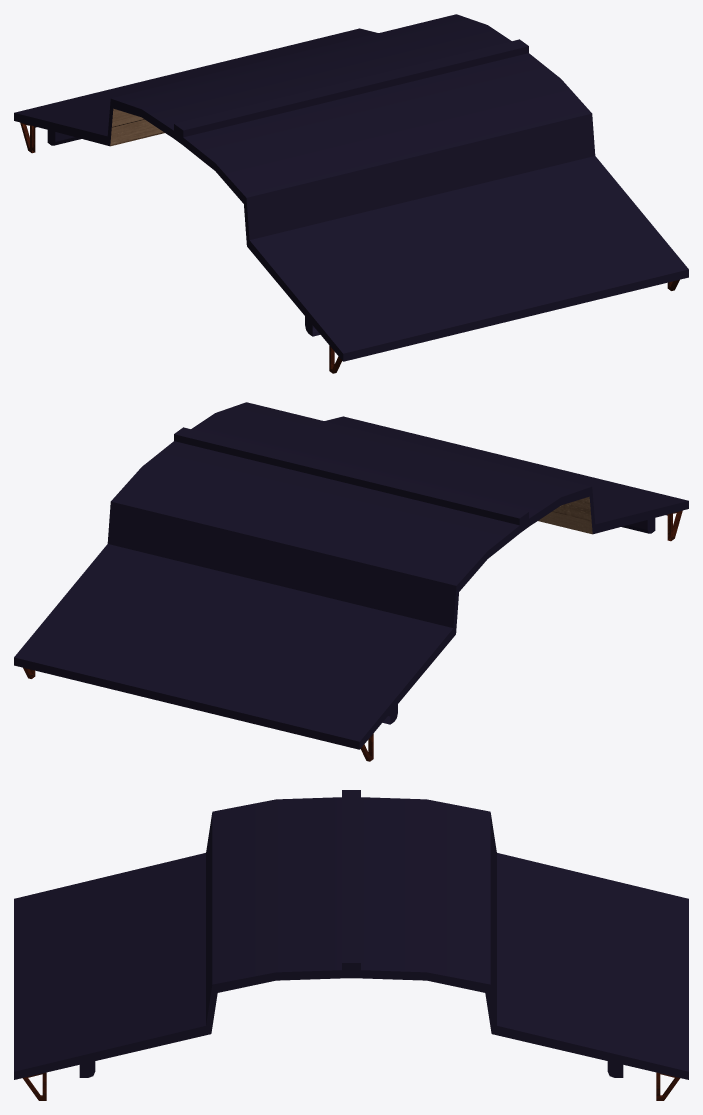
Rendered from Teto.fbx.
3 renders of one model, top to bottom at view 1: azimuth 30°, elevation 25°; view 2: azimuth 150°, elevation 25°; view 3: azimuth 270°, elevation 25°, orthographic. The views are drawn at different scales.
Visible parts, largest first — view 1: TremTeto; view 2: TremTeto; view 3: TremTeto.
Part boxes in pixels (bbox=[...]): TremTeto: bbox=[14, 14, 688, 373]; TremTeto: bbox=[14, 402, 688, 761]; TremTeto: bbox=[14, 790, 688, 1100].
Bounding box in the file's own units: 525 × 197 × 866.
